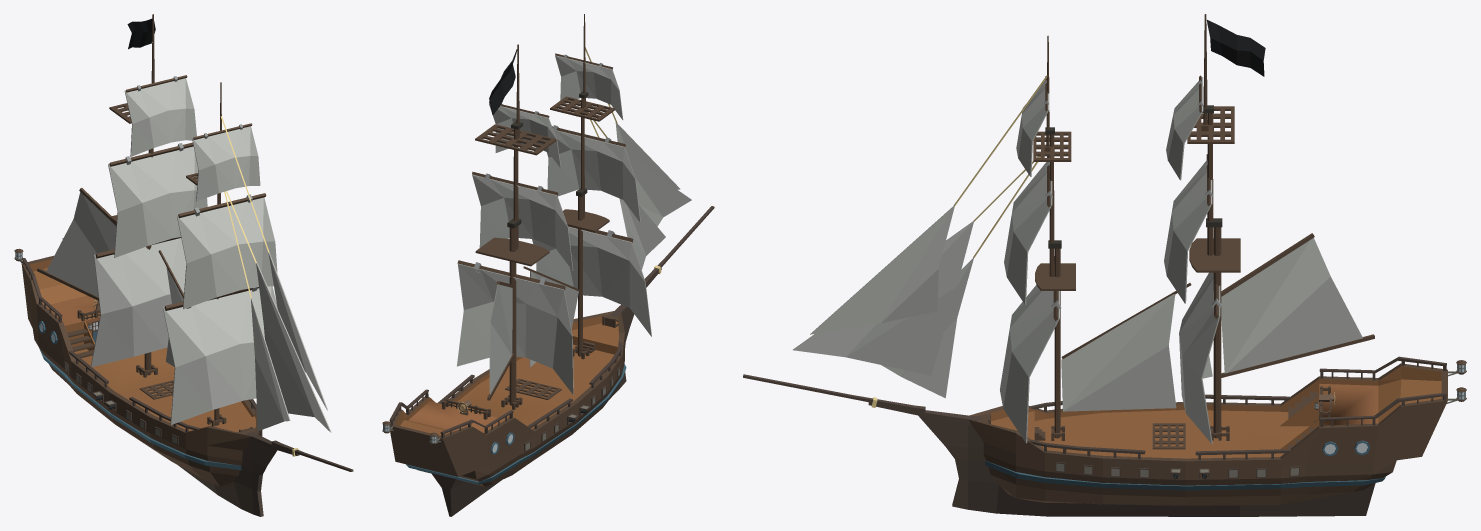
Rendered from ship.obj.
3 views of the same model, side by side, from view 1: azimuth 30°, elevation 25°; view 2: azimuth 150°, elevation 25°; view 3: azimuth 270°, elevation 25° (orthographic). The views are drawn at different scales.
Visible parts, largest first — view 1: Big_Ship; view 2: Big_Ship; view 3: Big_Ship.
Boxes of the visible parts, x1=… form: Big_Ship: x1=14, y1=14, x2=353, y2=516; Big_Ship: x1=382, y1=14, x2=714, y2=516; Big_Ship: x1=743, y1=14, x2=1466, y2=516.
Size of the model in its own units: 147 by 506 by 663.
